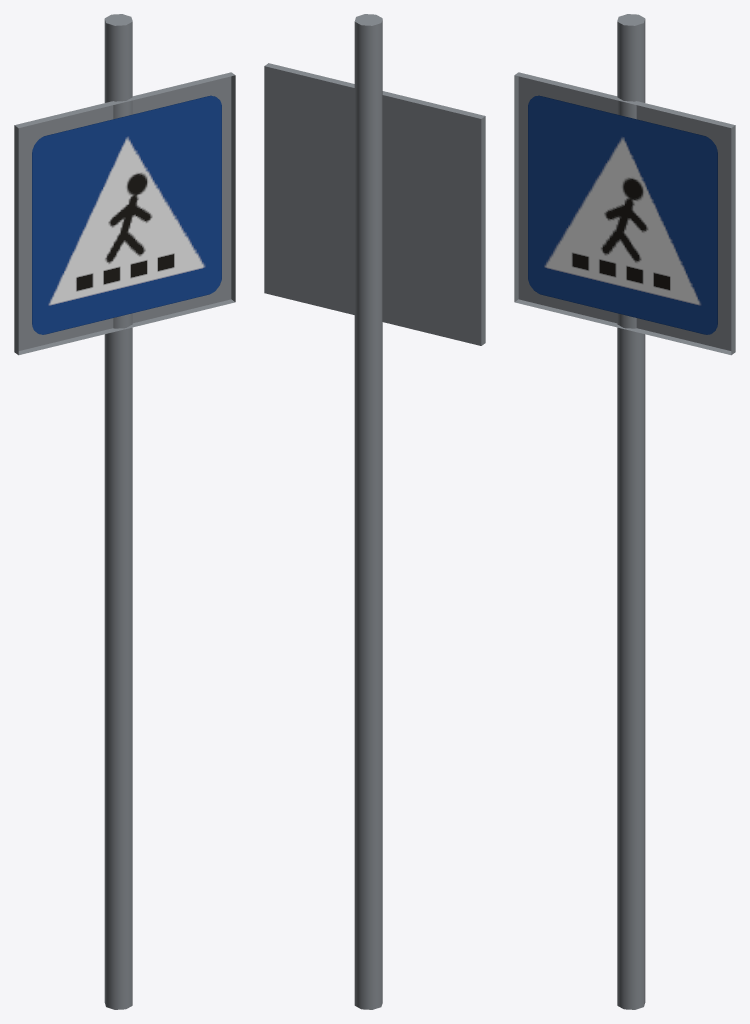
File: road-sign.obj
3 views of the same model, side by side, from view 1: azimuth 30°, elevation 25°; view 2: azimuth 150°, elevation 25°; view 3: azimuth 330°, elevation 25° (orthographic).
Parts seen in each view (by area): view 1: part2, part1; view 2: part2, part1; view 3: part2, part1.
Part boxes in pixels (<box>): part2: <box>14,72,235,355</box>; part1: <box>104,14,132,1009</box>; part2: <box>264,63,485,345</box>; part1: <box>354,14,382,1009</box>; part2: <box>514,72,735,355</box>; part1: <box>617,14,645,1009</box>.
Bounding box in the file's own units: 0.6 × 2.6 × 0.075.
2 materials, 1 textured.
